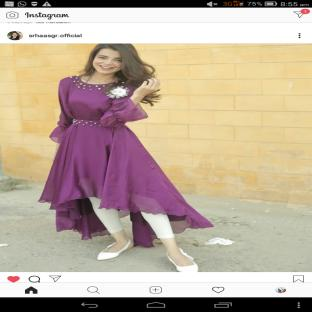Human: (38, 44, 213, 272)
